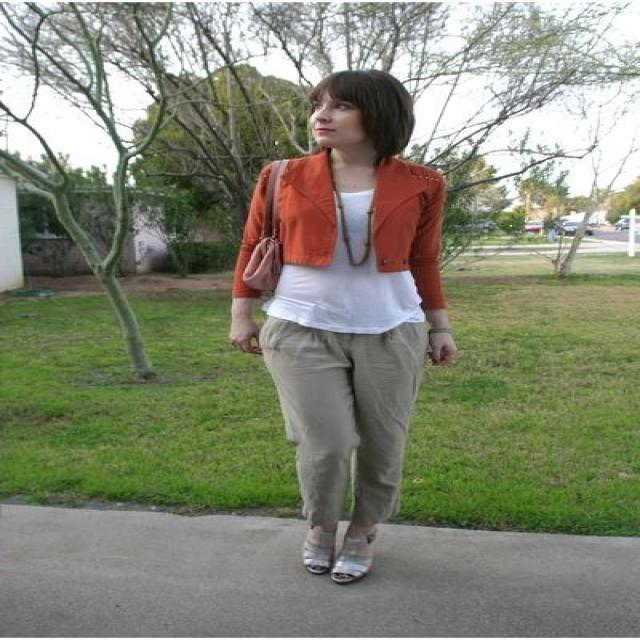bag: (234, 218, 286, 310)
jacket: (242, 141, 443, 319)
pants: (259, 319, 432, 563)
shirt: (262, 189, 424, 333)
shoe: (307, 554, 370, 586)
